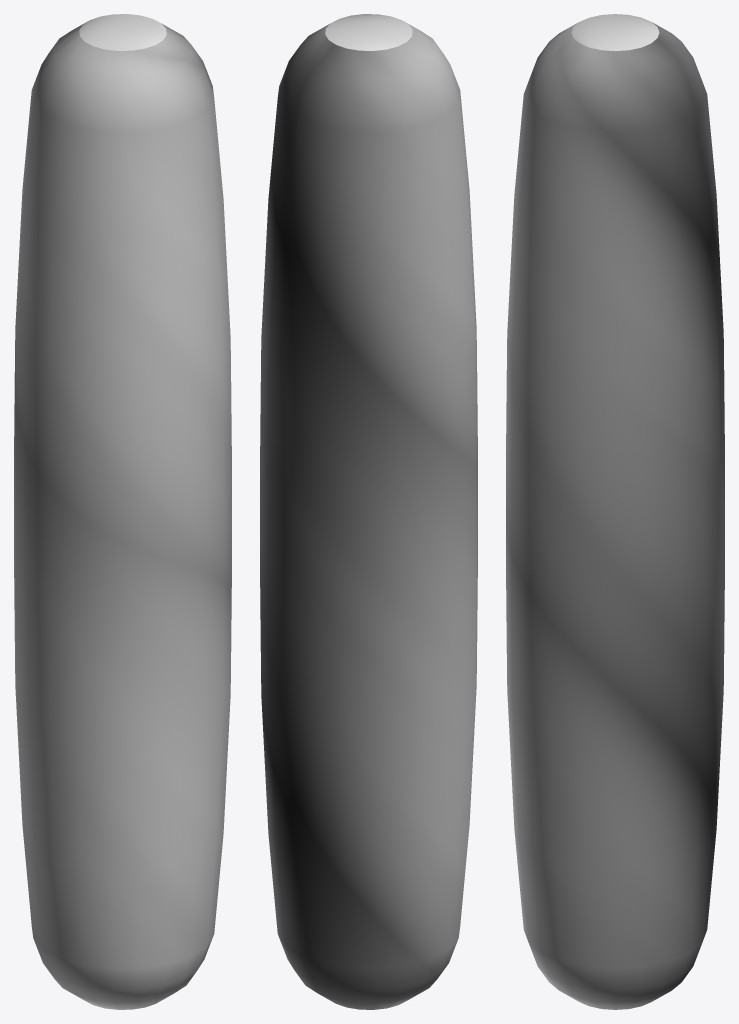
Rendered from Thread_v4.fbx.
3 renders of one model, left to right at view 1: azimuth 30°, elevation 25°; view 2: azimuth 150°, elevation 25°; view 3: azimuth 270°, elevation 25°, orthographic.
Parts seen in each view (by area): view 1: Thread_v2; view 2: Thread_v2; view 3: Thread_v2.
Part boxes in pixels (<box>): Thread_v2: <box>14,14,231,1009</box>; Thread_v2: <box>260,14,477,1009</box>; Thread_v2: <box>506,14,724,1009</box>.
Bounding box in the file's own units: 5.84 × 28.21 × 5.84.
